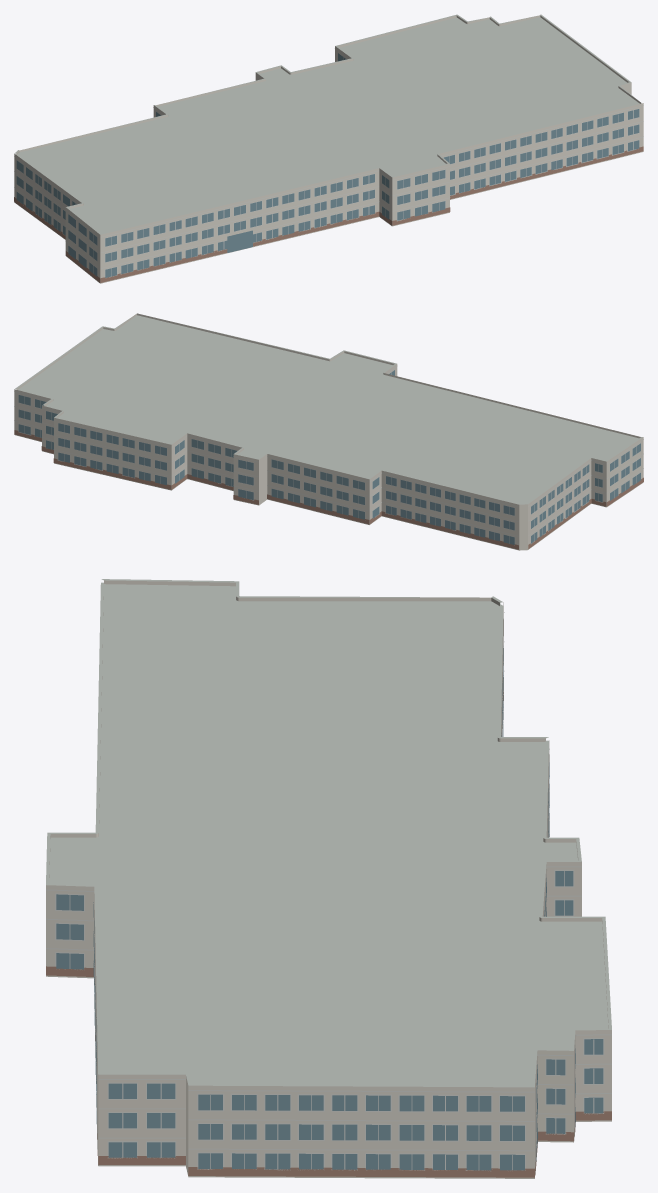
The model's file is public-7afe2580-2ae7-4fa4-9694-47720f514ed9.glb.
3 renders of one model, top to bottom at view 1: azimuth 30°, elevation 25°; view 2: azimuth 150°, elevation 25°; view 3: azimuth 270°, elevation 25°, orthographic. The views are drawn at different scales.
Visible parts, largest first — view 1: public-7afe2580-2ae7-4fa4-9694-47720f514ed9; view 2: public-7afe2580-2ae7-4fa4-9694-47720f514ed9; view 3: public-7afe2580-2ae7-4fa4-9694-47720f514ed9.
Part boxes in pixels (<box>): public-7afe2580-2ae7-4fa4-9694-47720f514ed9: <box>14,14,643,283</box>; public-7afe2580-2ae7-4fa4-9694-47720f514ed9: <box>14,313,643,550</box>; public-7afe2580-2ae7-4fa4-9694-47720f514ed9: <box>46,579,611,1178</box>.
Size of the model in its own units: 109 by 9.15 by 51.39.
